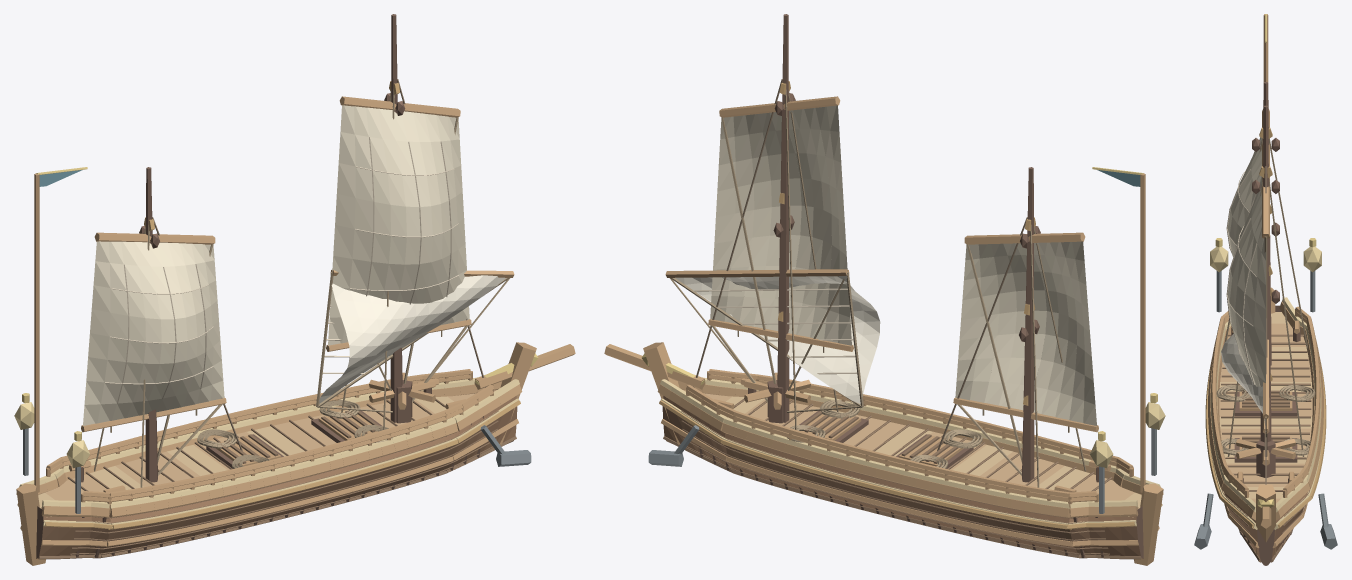
File: chesapeake_schooner-v5-mobile.glb
The picture shows the model from 3 angles, left to right: view 1: azimuth 30°, elevation 25°; view 2: azimuth 150°, elevation 25°; view 3: azimuth 270°, elevation 25°; orthographic projection. The views are drawn at different scales.
Visible parts, largest first — view 1: chesapeake_schooner_sails_sail, chesapeake_schooner_hull_wood, chesapeake_schooner_railings_wood, chesapeake_schooner_sails_sailbright, chesapeake_schooner_hull_seam, chesapeake_schooner_hull_pale, chesapeake_schooner_hull_hull2, chesapeake_schooner_hull_hull, chesapeake_schooner_hull_deck, chesapeake_schooner_rigging_wood, chesapeake_schooner_masts_darkwood, chesapeake_schooner_rigging_sailshade (+12 smaller); view 2: chesapeake_schooner_sails_sail, chesapeake_schooner_hull_wood, chesapeake_schooner_railings_wood, chesapeake_schooner_hull_seam, chesapeake_schooner_masts_darkwood, chesapeake_schooner_hull_pale, chesapeake_schooner_sails_sailbright, chesapeake_schooner_rigging_wood, chesapeake_schooner_hull_hull2, chesapeake_schooner_hull_hull, chesapeake_schooner_hull_deck, chesapeake_schooner_rigging_rope (+13 smaller); view 3: chesapeake_schooner_sails_sail, chesapeake_schooner_hull_wood, chesapeake_schooner_hull_deck, chesapeake_schooner_railings_wood, chesapeake_schooner_hull_seam, chesapeake_schooner_hull_decklight, chesapeake_schooner_masts_darkwood, chesapeake_schooner_hull_pale, chesapeake_schooner_fittings_iron, chesapeake_schooner_fittings_wood, chesapeake_schooner_fittings_darkwood, chesapeake_schooner_masts_rope (+15 smaller).
Part boxes in pixels (x1,y1,x2,y2): chesapeake_schooner_sails_sail: (83, 105, 469, 425); chesapeake_schooner_hull_wood: (16, 342, 575, 565); chesapeake_schooner_railings_wood: (46, 369, 493, 513); chesapeake_schooner_sails_sailbright: (319, 275, 505, 403); chesapeake_schooner_hull_seam: (38, 399, 516, 559); chesapeake_schooner_hull_pale: (18, 377, 519, 527); chesapeake_schooner_hull_hull2: (39, 396, 516, 555); chesapeake_schooner_hull_hull: (36, 406, 517, 558); chesapeake_schooner_hull_deck: (45, 390, 496, 514); chesapeake_schooner_rigging_wood: (81, 96, 514, 432); chesapeake_schooner_masts_darkwood: (139, 14, 405, 482); chesapeake_schooner_rigging_sailshade: (105, 137, 458, 403); chesapeake_schooner_sails_sail: (710, 105, 1096, 425); chesapeake_schooner_hull_wood: (604, 342, 1163, 565); chesapeake_schooner_railings_wood: (686, 369, 1133, 513); chesapeake_schooner_hull_seam: (663, 399, 1141, 559); chesapeake_schooner_masts_darkwood: (773, 14, 1040, 482); chesapeake_schooner_hull_pale: (660, 377, 1161, 528); chesapeake_schooner_sails_sailbright: (675, 274, 880, 404); chesapeake_schooner_rigging_wood: (665, 96, 1098, 432); chesapeake_schooner_hull_hull2: (663, 396, 1140, 555); chesapeake_schooner_hull_hull: (662, 406, 1143, 558); chesapeake_schooner_hull_deck: (683, 390, 1134, 514); chesapeake_schooner_rigging_rope: (669, 117, 1069, 475); chesapeake_schooner_sails_sail: (1227, 137, 1265, 425); chesapeake_schooner_hull_wood: (1208, 287, 1323, 554); chesapeake_schooner_hull_deck: (1219, 323, 1312, 503); chesapeake_schooner_railings_wood: (1211, 306, 1320, 497); chesapeake_schooner_hull_seam: (1220, 334, 1311, 562); chesapeake_schooner_hull_decklight: (1219, 312, 1312, 498); chesapeake_schooner_masts_darkwood: (1252, 82, 1279, 442); chesapeake_schooner_hull_pale: (1209, 297, 1322, 529); chesapeake_schooner_fittings_iron: (1194, 271, 1337, 549); chesapeake_schooner_fittings_wood: (1232, 320, 1299, 482); chesapeake_schooner_fittings_darkwood: (1231, 327, 1300, 483); chesapeake_schooner_masts_rope: (1224, 138, 1307, 456).
Size of the model in its own units: 46.48 by 37.13 by 11.66.
